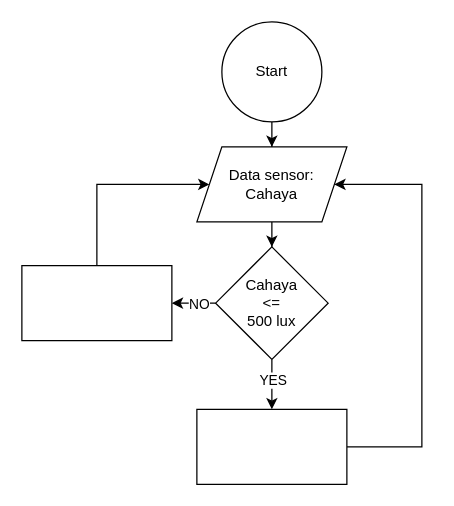
Some shapes in this 454 by 506 pixel diagram are drawn without their labels. Each missing label, with the box of its shape:
LED OFF: (21, 264, 172, 341)
LED ON: (196, 408, 347, 484)
